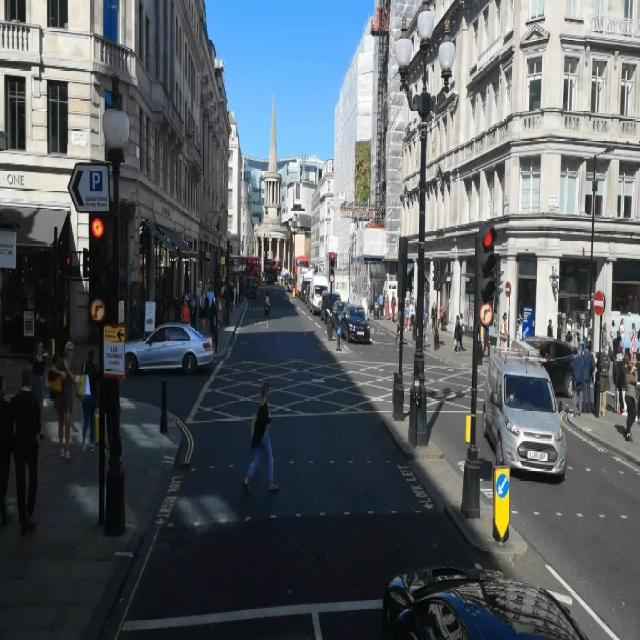pedestrian: (244, 382, 278, 492)
